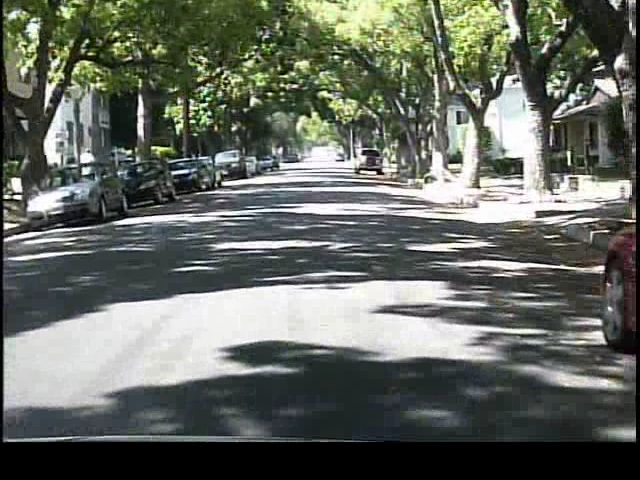person: (77, 144, 103, 196)
